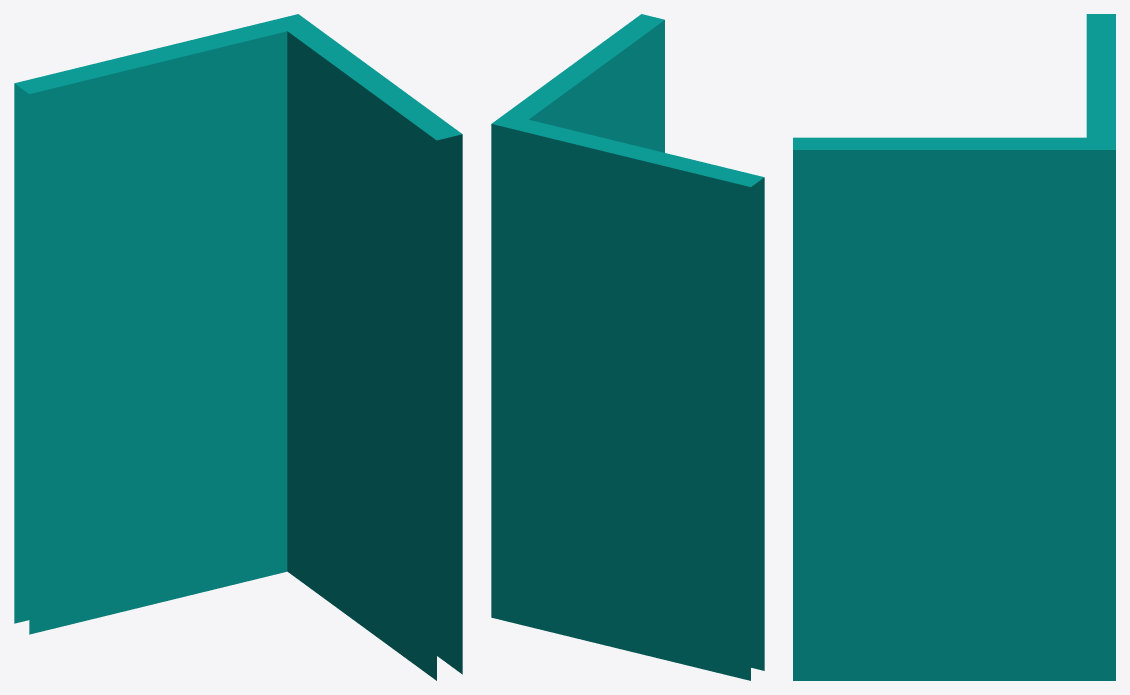
File: En_W_wallkonkav.fbx
3 renders of one model, left to right at view 1: azimuth 30°, elevation 25°; view 2: azimuth 150°, elevation 25°; view 3: azimuth 270°, elevation 25°, orthographic. The views are drawn at different scales.
Parts seen in each view (by area): view 1: En_W_wallkonkav; view 2: En_W_wallkonkav; view 3: En_W_wallkonkav.
Boxes of the visible parts, x1=… form: En_W_wallkonkav: x1=14, y1=14, x2=462, y2=680; En_W_wallkonkav: x1=491, y1=14, x2=764, y2=680; En_W_wallkonkav: x1=793, y1=14, x2=1115, y2=680.
Bounding box in the file's own units: 220 × 400 × 220.
